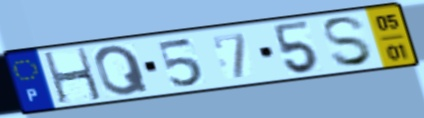5: (269, 19, 322, 77), (154, 35, 205, 89)
7: (212, 32, 249, 81)
H: (40, 45, 106, 106)
Q: (92, 43, 153, 97)
S: (320, 14, 377, 69)
